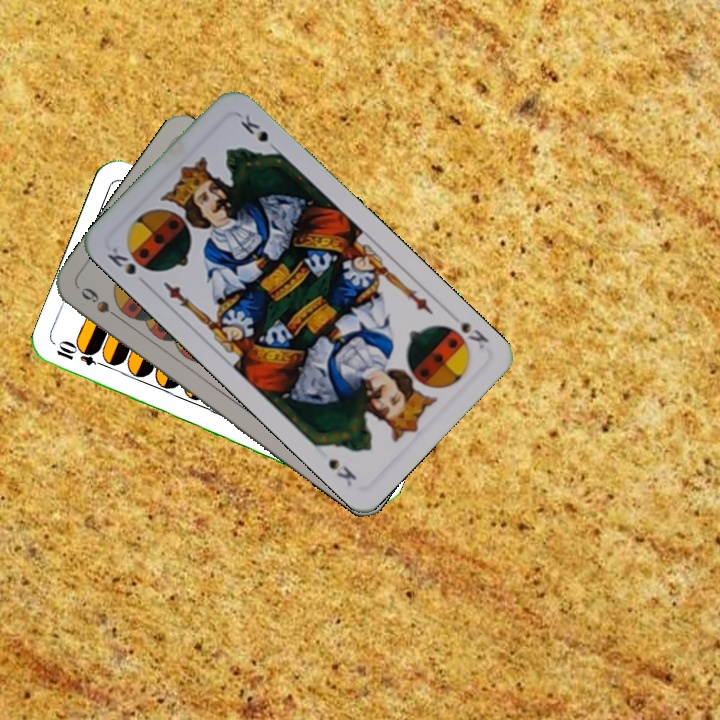E10: (52, 340, 110, 371)
S9: (76, 283, 127, 325)
SK: (103, 243, 151, 289), (454, 316, 492, 352)
